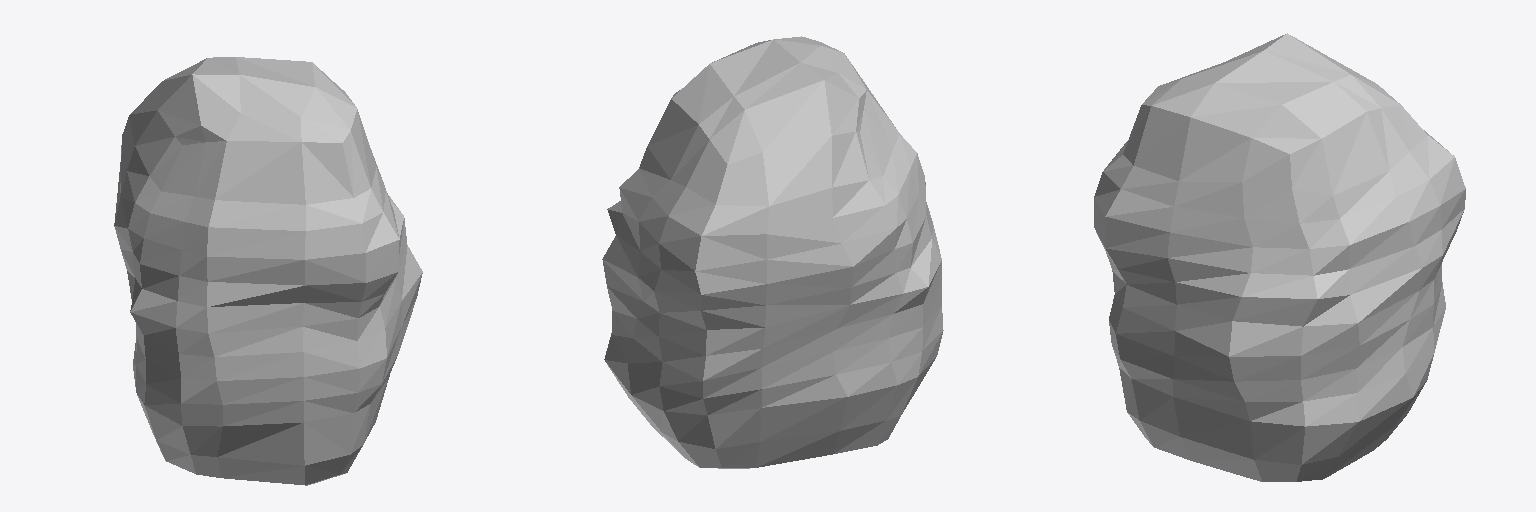
Rendered from rock040.obj.
The picture shows the model from 3 angles: view 1: azimuth 30°, elevation 25°; view 2: azimuth 150°, elevation 25°; view 3: azimuth 270°, elevation 25°; orthographic projection.
Visible parts, largest first — view 1: rockwall_c05; view 2: rockwall_c05; view 3: rockwall_c05.
Boxes of the visible parts, box(x1,y1,x2,y2) form: rockwall_c05: box(114, 57, 422, 485); rockwall_c05: box(602, 36, 943, 468); rockwall_c05: box(1094, 33, 1465, 481).
Bounding box in the file's own units: 1297 × 1674 × 1458.